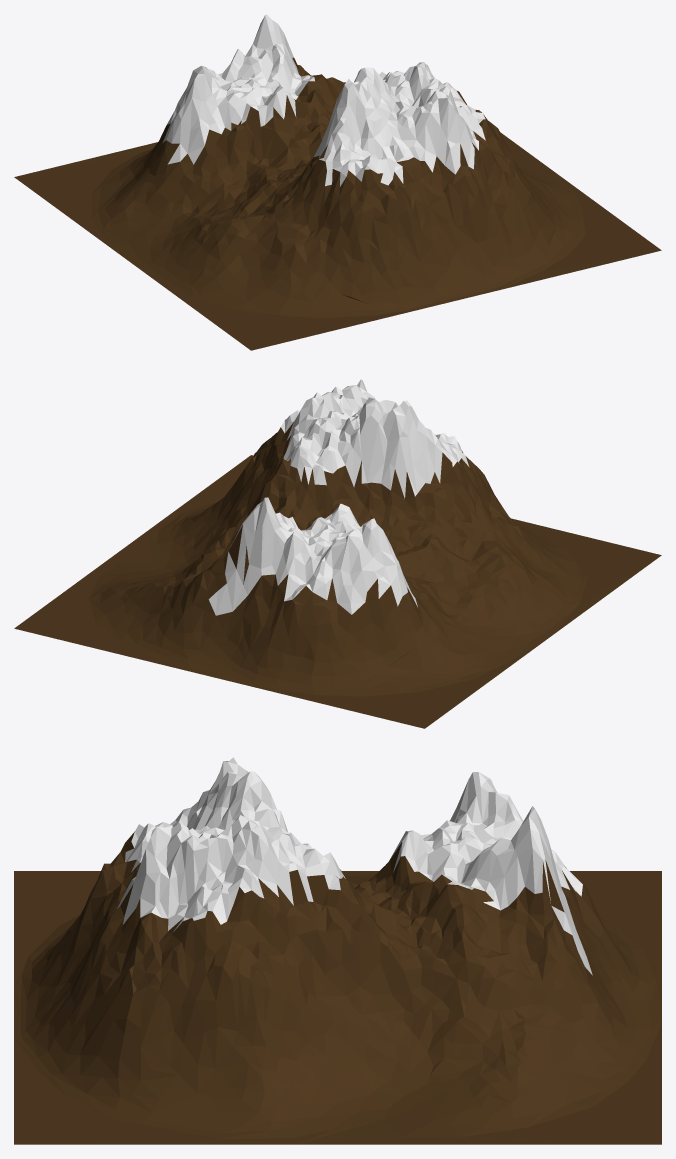
Rendered from Gunung.fbx.
The picture shows the model from 3 angles, top to bottom: view 1: azimuth 30°, elevation 25°; view 2: azimuth 150°, elevation 25°; view 3: azimuth 270°, elevation 25°; orthographic projection. The views are drawn at different scales.
Parts seen in each view (by area): view 1: Landscape; view 2: Landscape; view 3: Landscape.
Boxes of the visible parts, x1,y1,x2,y2 form: Landscape: [14, 14, 661, 350]; Landscape: [14, 379, 661, 728]; Landscape: [14, 757, 661, 1144].
Bounding box in the file's own units: 200 × 79.46 × 200.
